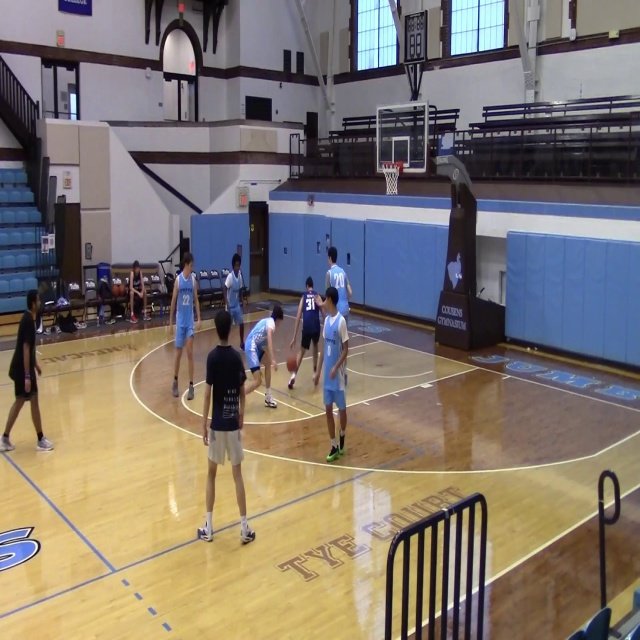Basketball: (286, 354, 298, 372), (111, 283, 126, 296)
